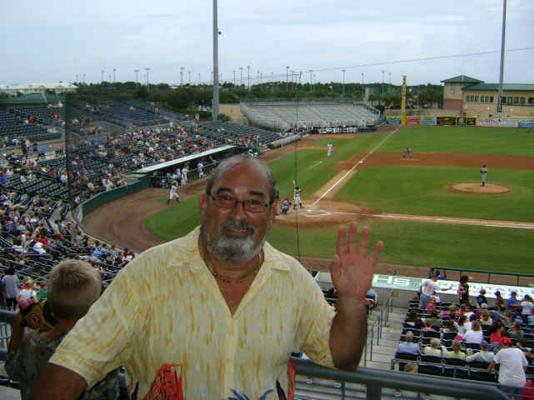person: (38, 151, 386, 400)
